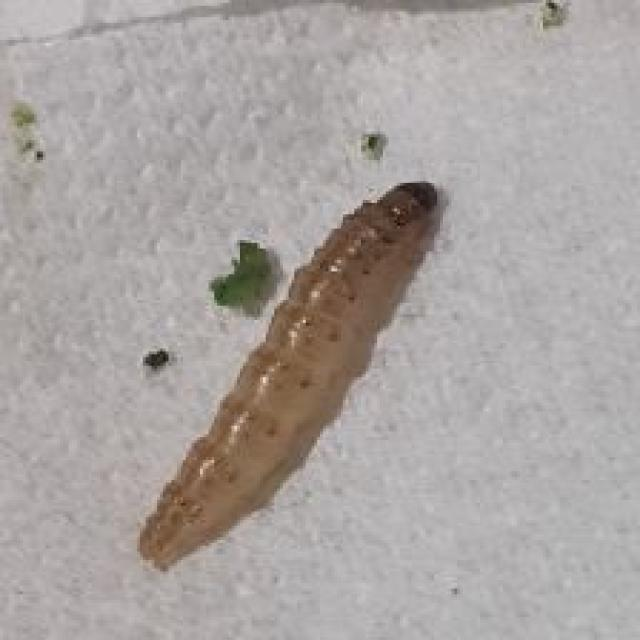white mucus: (133, 163, 454, 567)
